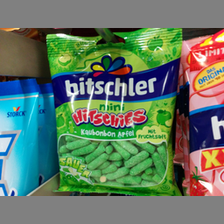candy: (43, 29, 178, 195)
